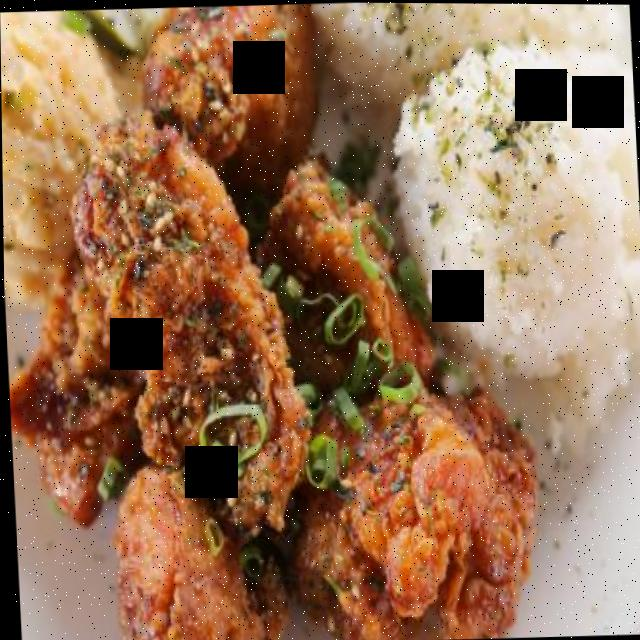Frango: (0, 0, 536, 640)
